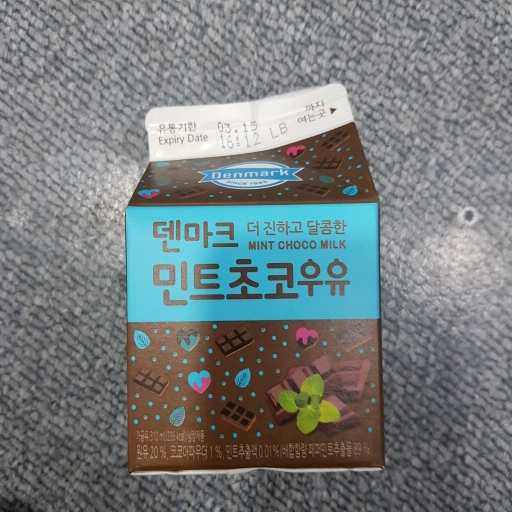Paper_0: (110, 90, 419, 489)
